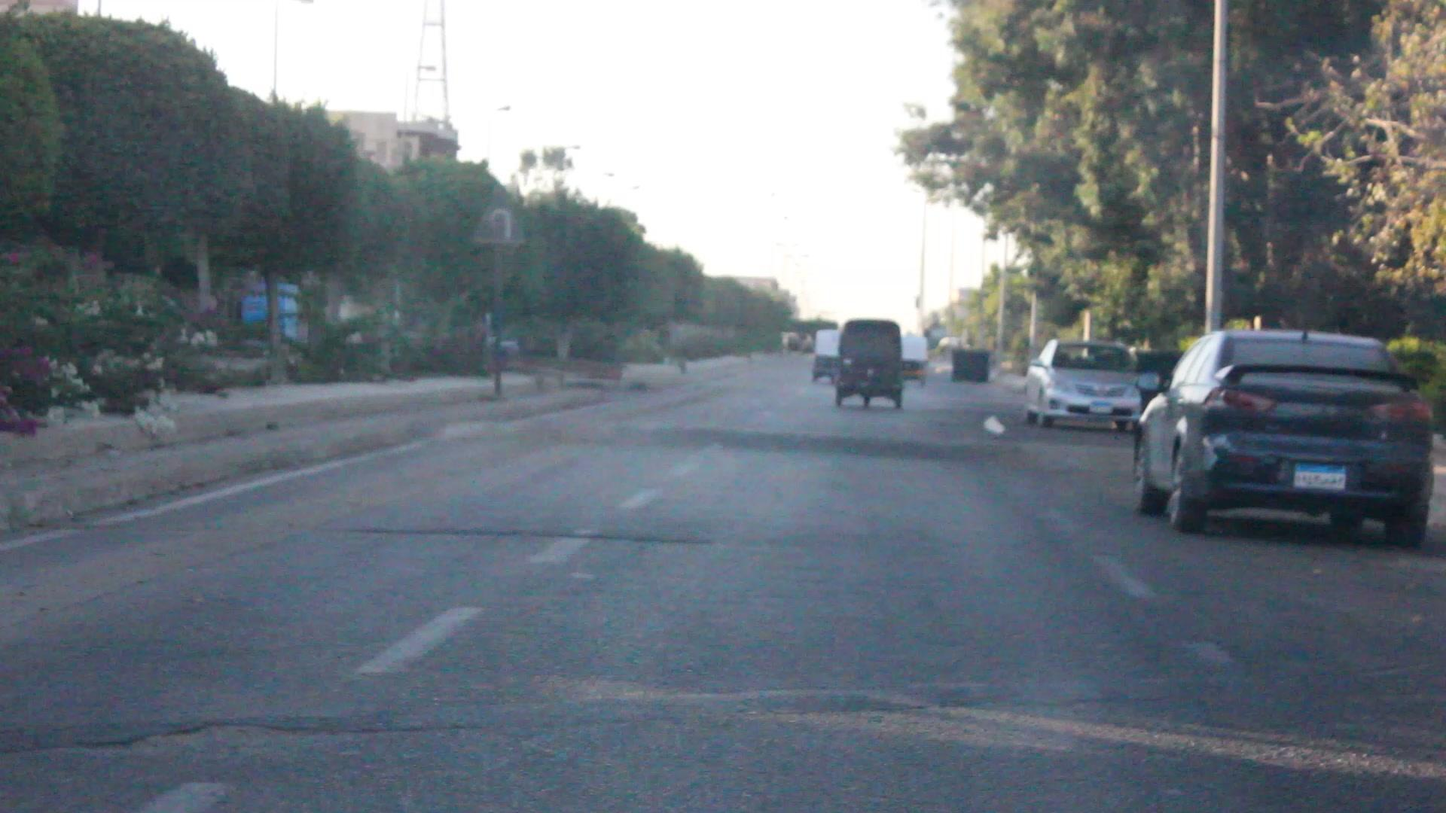Bump: (416, 409, 1143, 478)
